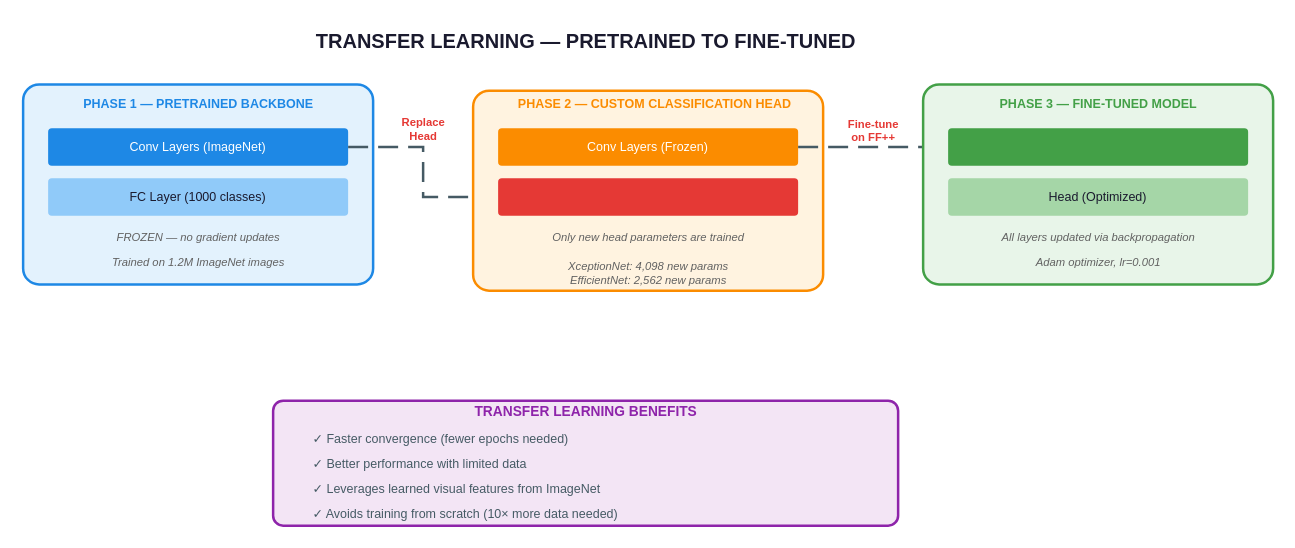
Some shapes in this 1295 by 548 pixel diagram are drawn without their labels. Each missing label, with the centre of its shape:
"Backbone (Fine-tuned)" belongs at (x=1098, y=146).
"NEW: Dropout(0.5) + Linear → 2 classes" belongs at (x=648, y=196).
